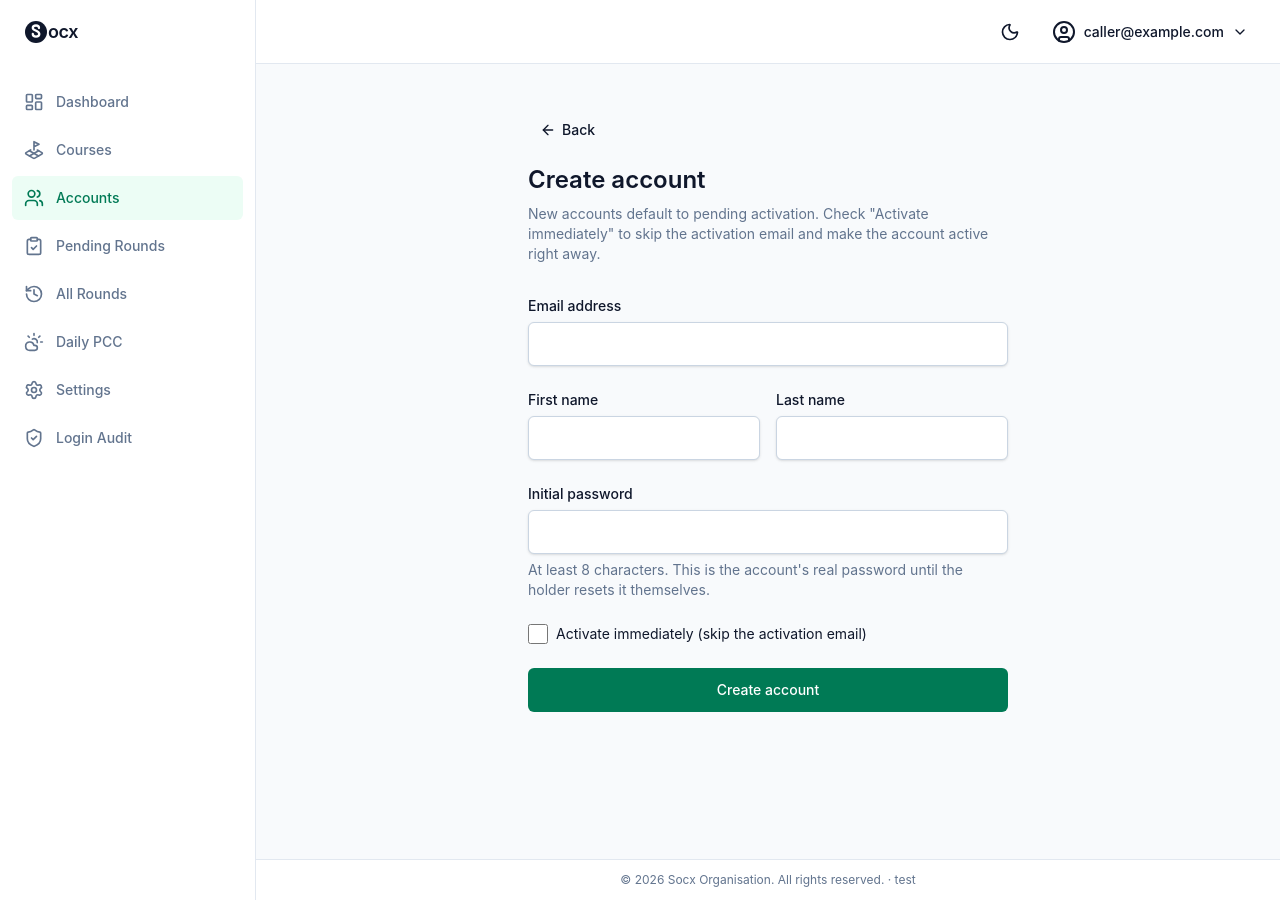
AdminCreateUserPage › creates a player account with autoActivate unset, sending role=player for a plain admin caller
In the field labelled "Email address": (768, 344) [528,322,1008,366], type "new.player@example.com"
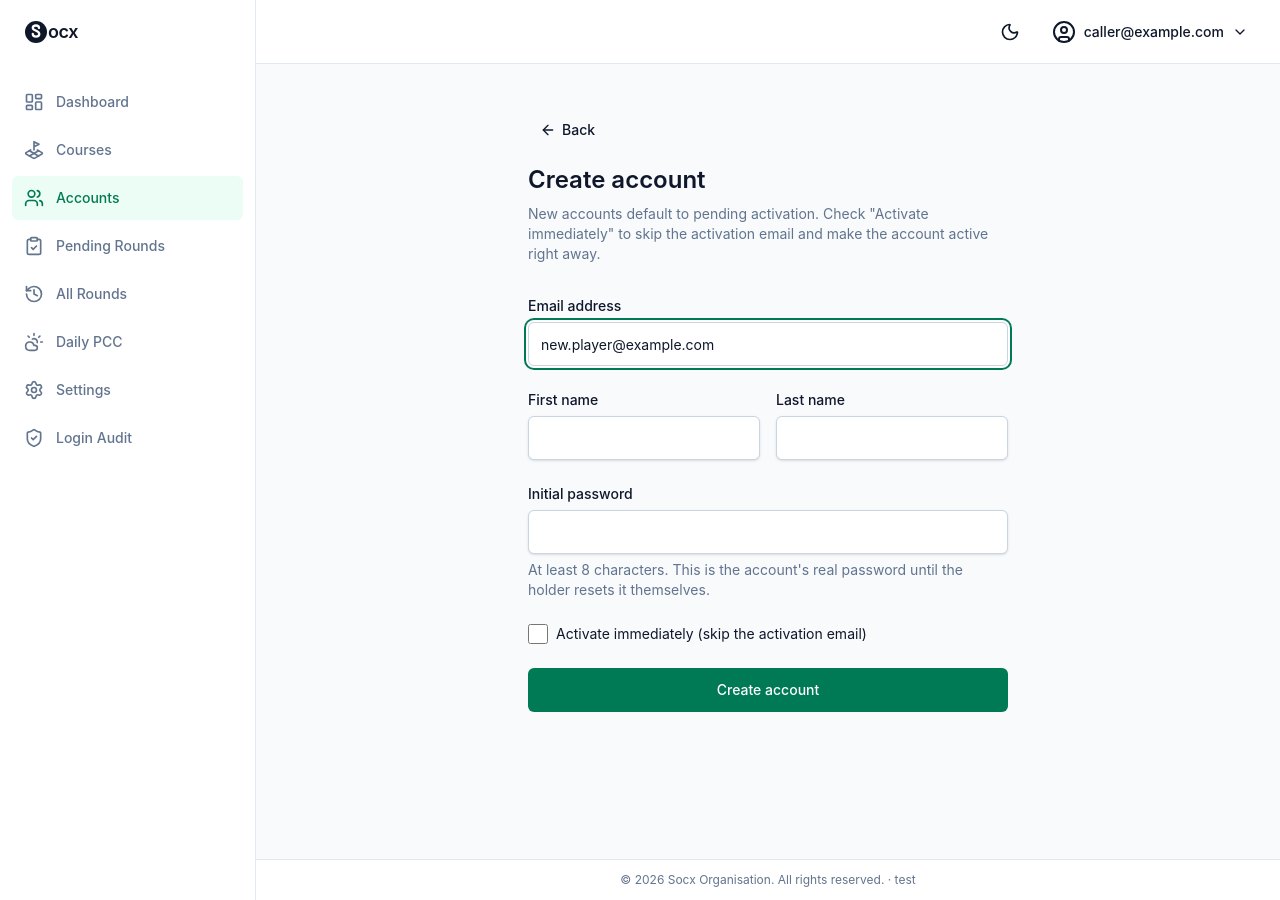
In the field labelled "First name": (644, 438) [528,416,760,460], type "New"
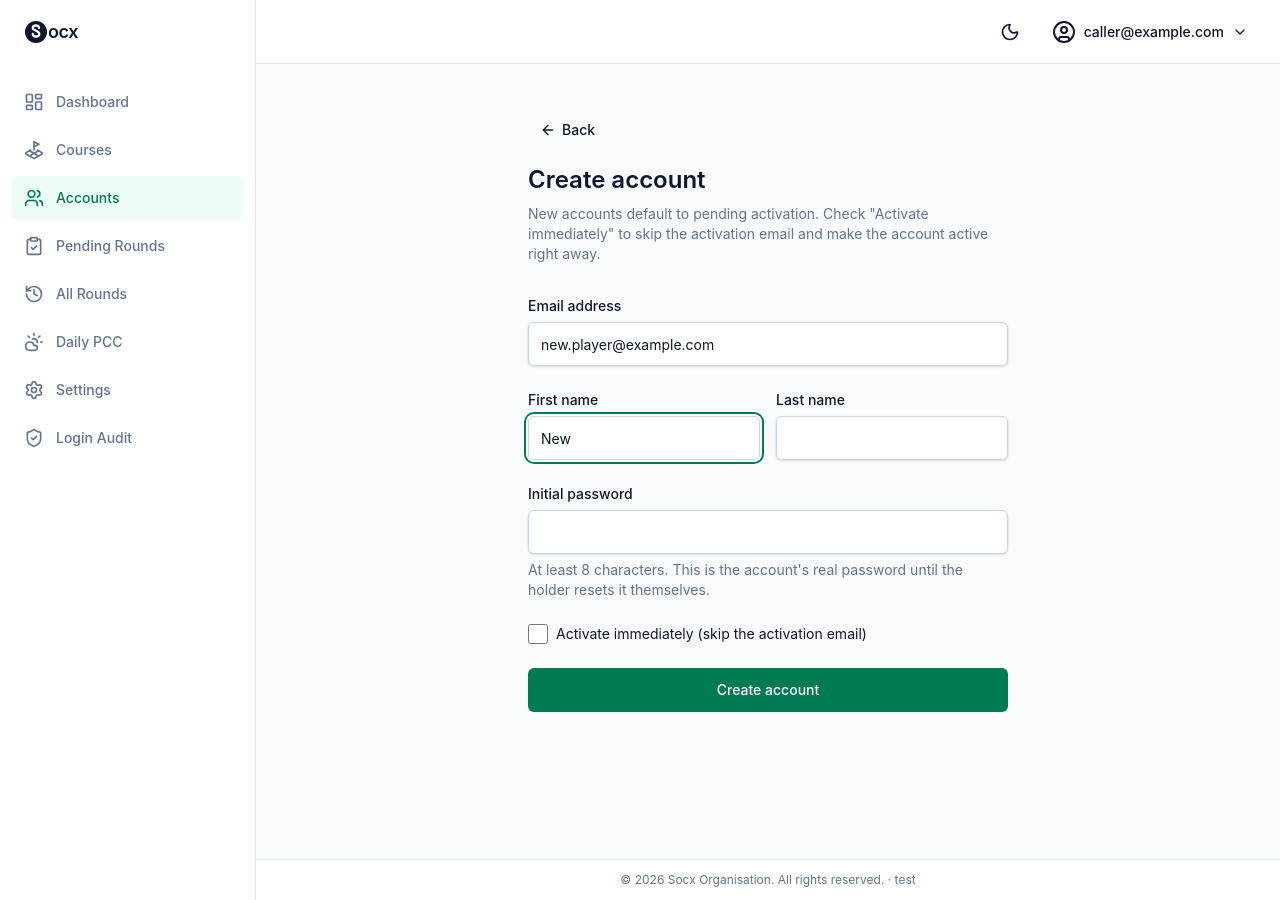
In the field labelled "Last name": (892, 438) [776,416,1008,460], type "Player"
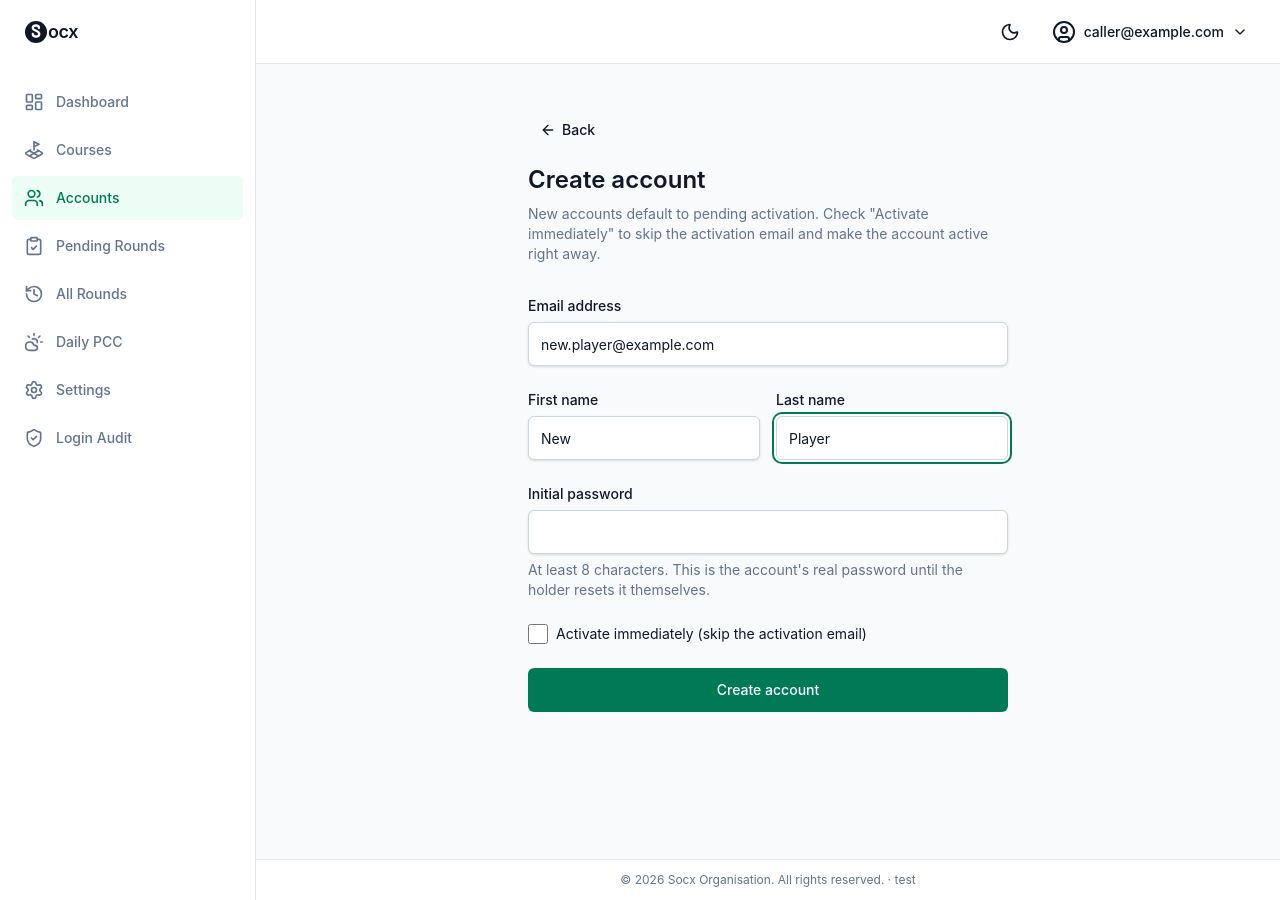
In the password field labelled "Initial password": (768, 532) [528,510,1008,554], type "correct-horse-battery-1"
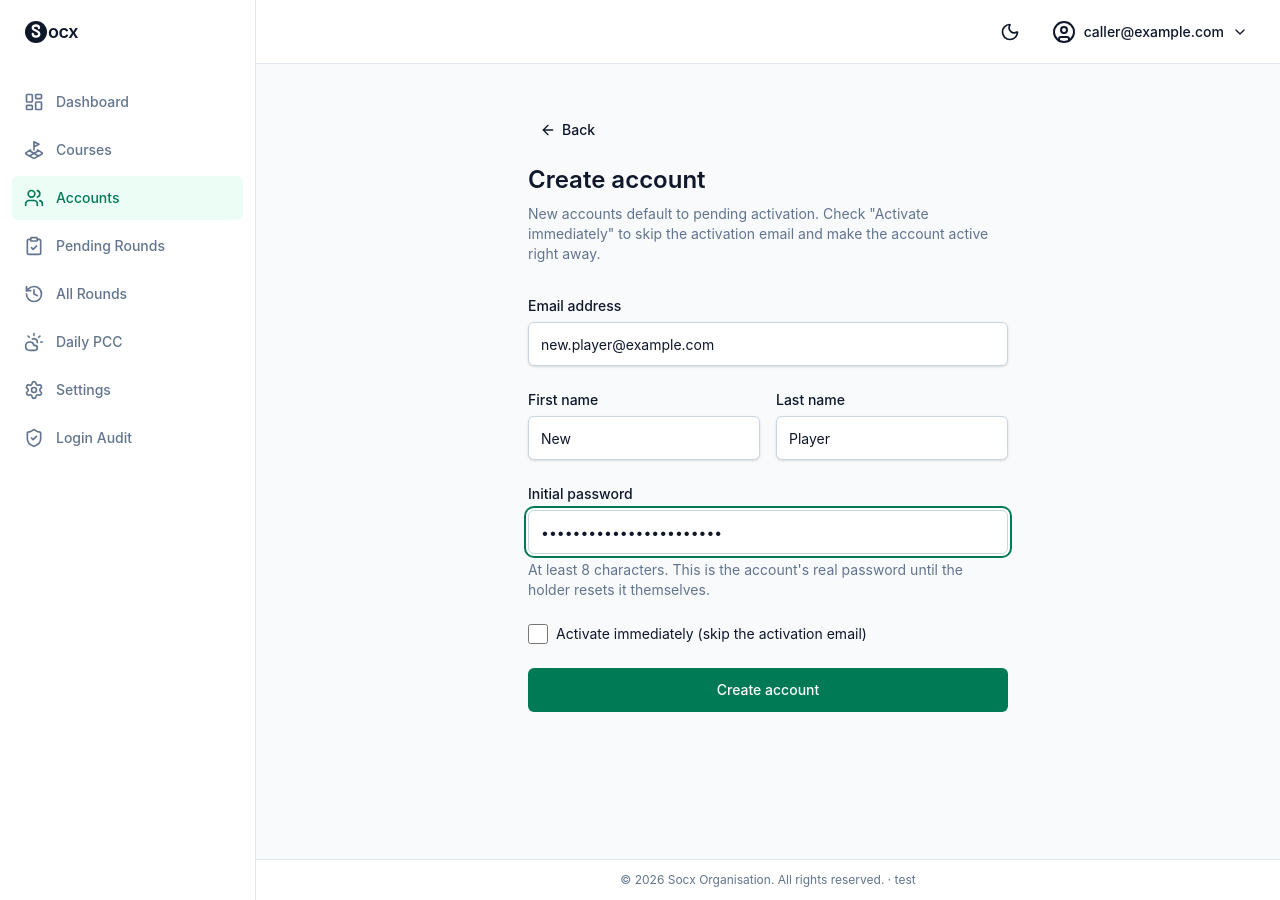
Click the button "Create account": (768, 690) [528,668,1008,712]
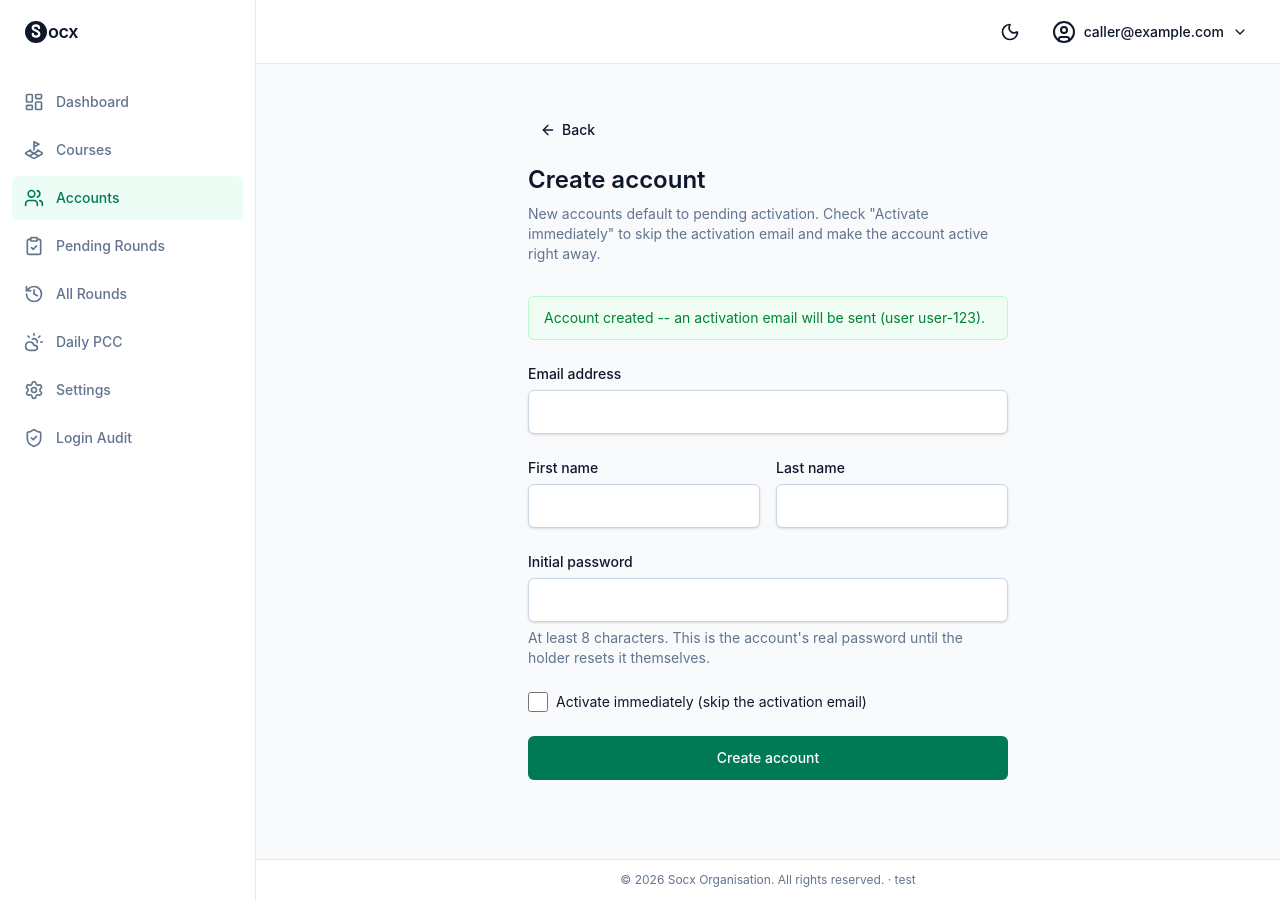
Expected: the message shows "activation email will be sent", [544,309,985,326]
Expected: the message shows "user-123", [544,309,985,326]
